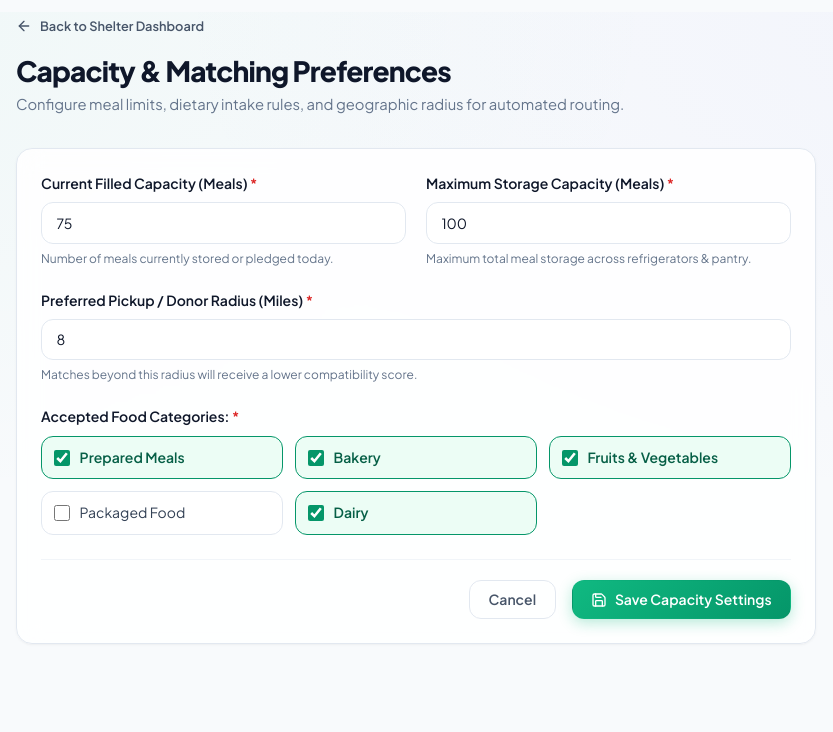
it: ShelterCapacityPage › allows updating capacity numbers and saves to state
Step 1. Replace the text in the number field labelled "Current Filled Capacity (Meals)" with "80" → (224, 223), box [41,202,406,244]
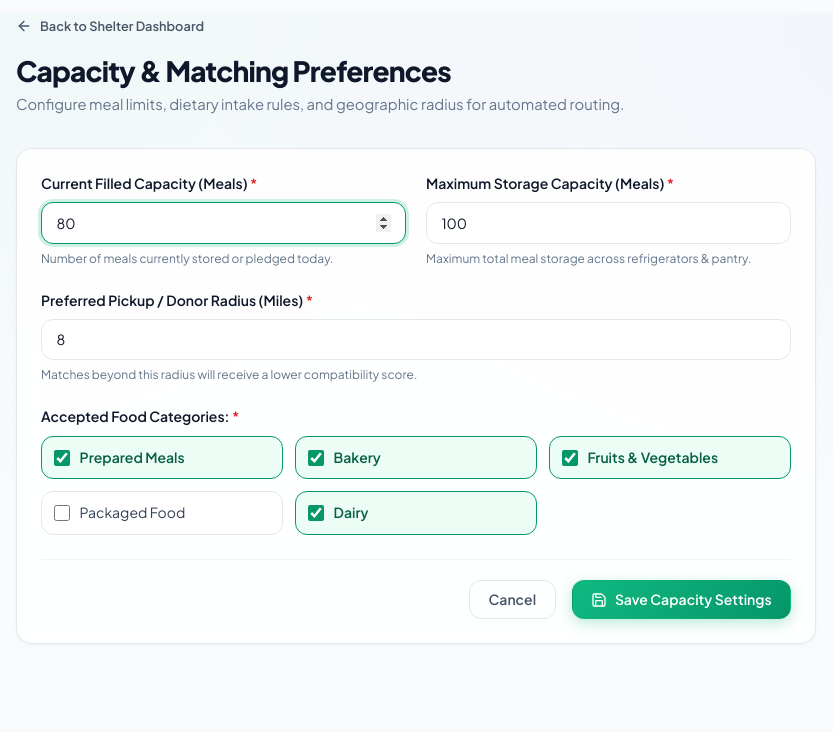
Step 2. Click the button with test id "save-capacity-btn" → (681, 600), box [572,580,791,619]
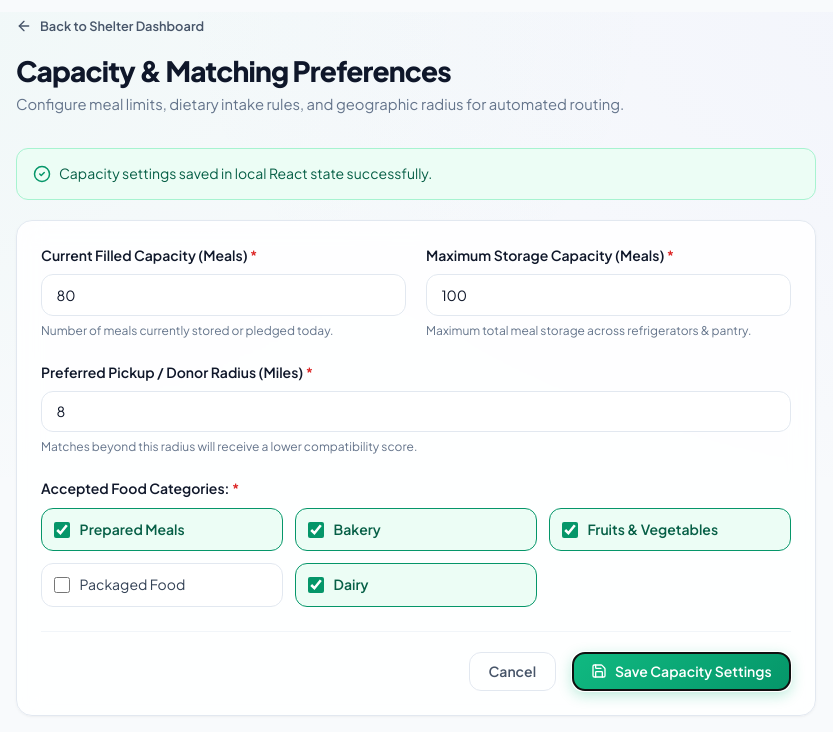
Expected: the message "Capacity settings saved in local React state successfully." is shown, [16,148,816,200]
